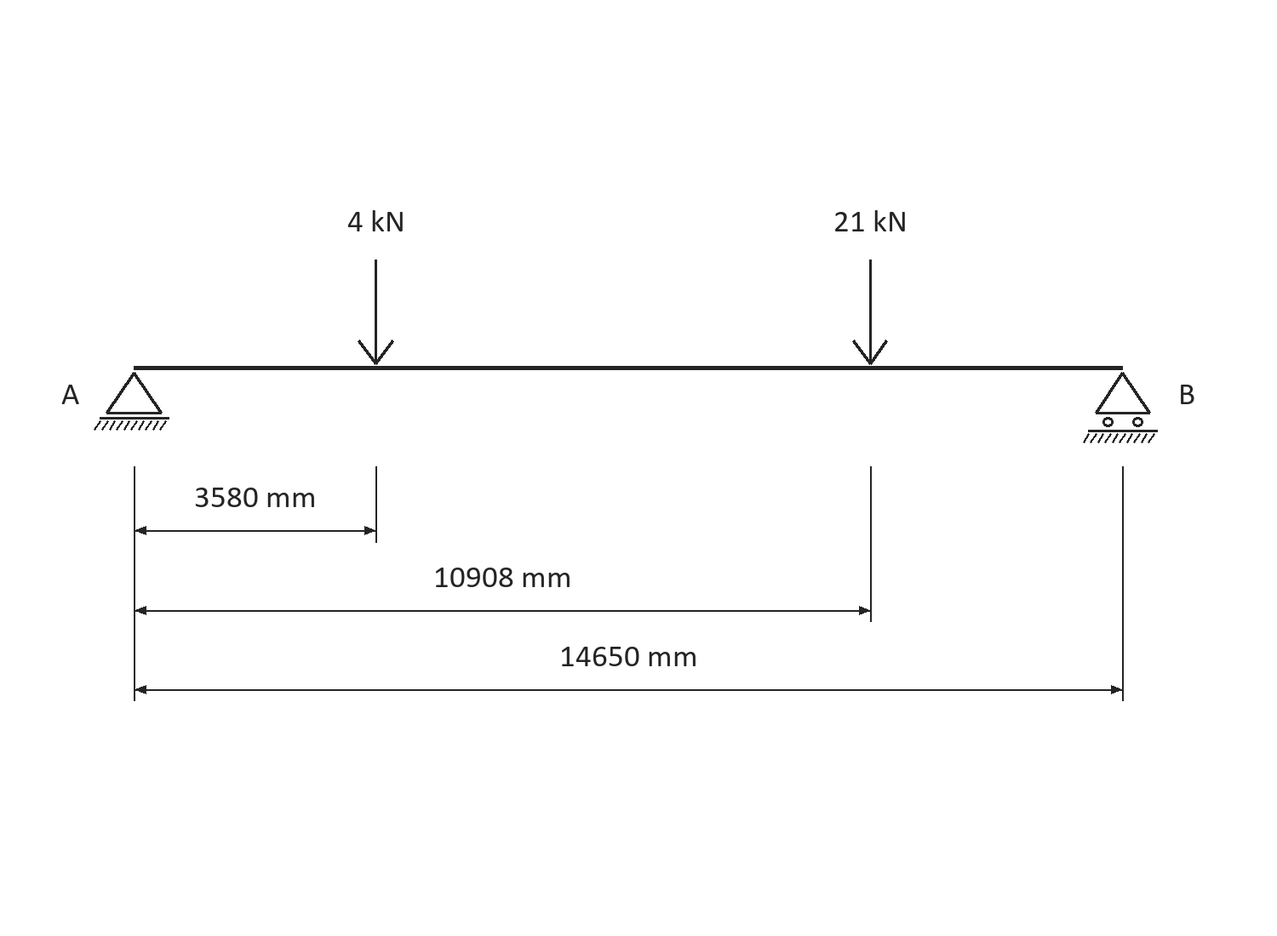pin_support: (94, 372, 169, 431)
point_load: (358, 260, 394, 365), (852, 260, 888, 365)
roller_support: (1083, 372, 1158, 443)
